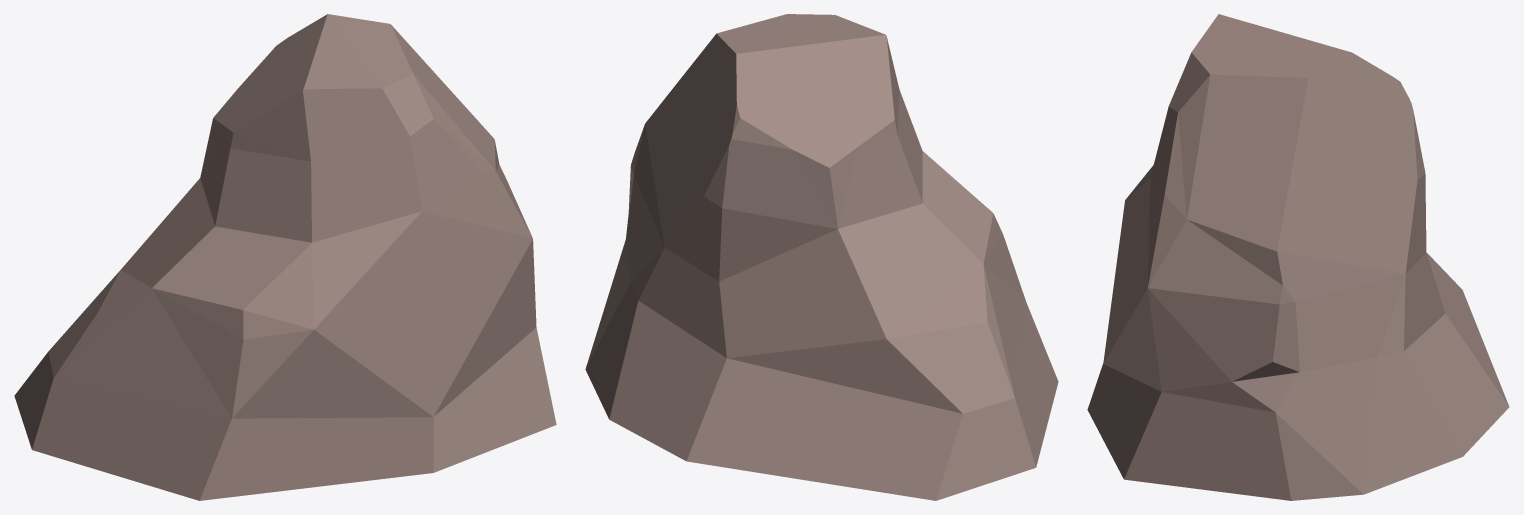
The model's file is Rock_23.fbx.
3 renders of one model, left to right at view 1: azimuth 30°, elevation 25°; view 2: azimuth 150°, elevation 25°; view 3: azimuth 270°, elevation 25°, orthographic. The views are drawn at different scales.
Visible parts, largest first — view 1: Rock_23; view 2: Rock_23; view 3: Rock_23.
Boxes of the visible parts, x1,y1,x2,y2 form: Rock_23: (14, 14, 556, 500); Rock_23: (585, 14, 1058, 500); Rock_23: (1087, 14, 1509, 500).
Bounding box in the file's own units: 5.84 × 4.28 × 4.44.
